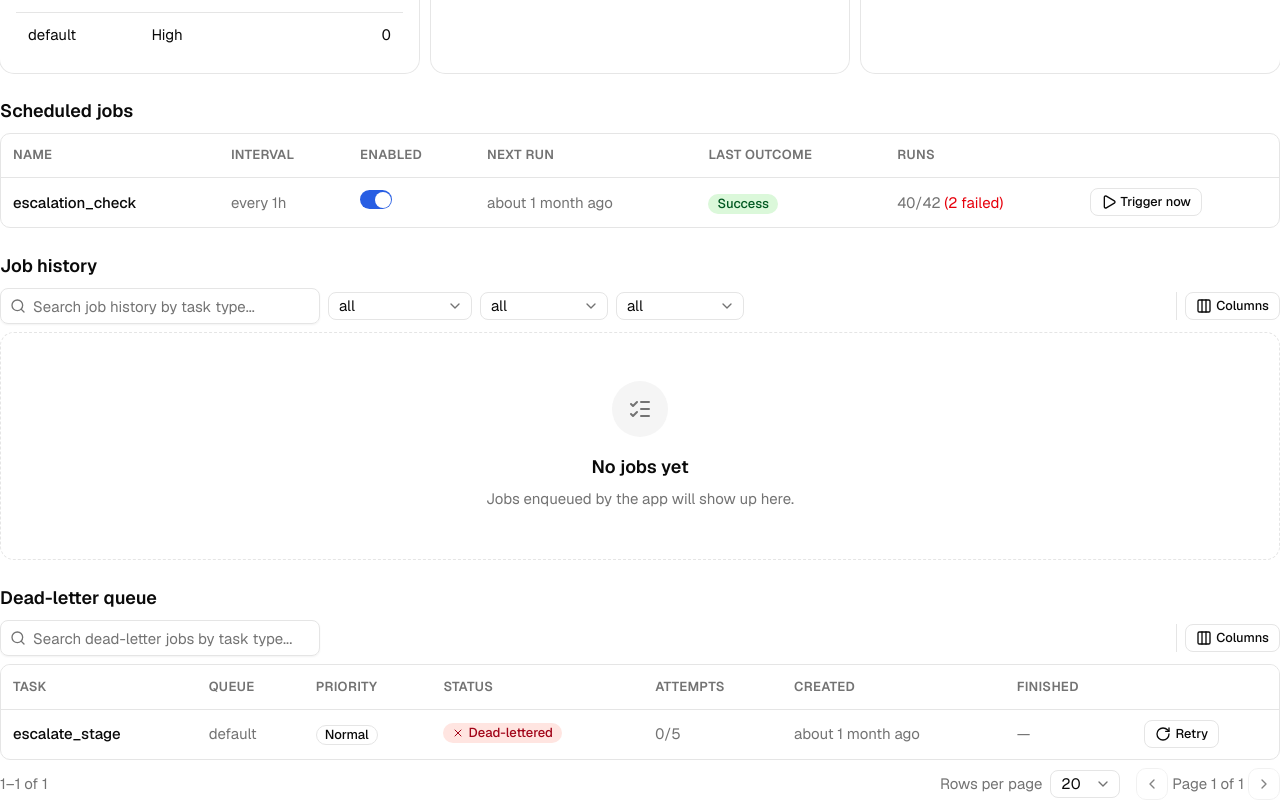
Scenario: AdminJobsPage › asks for confirmation before retrying a dead-lettered job, and does nothing on cancel
The image size is (1280, 800).
(page scrolled)
Expected: the text "escalate_stage" is shown, left=13, top=724, right=121, bottom=743
What coordinates should you click on to do the following:
click the button "Retry"
I would click on:
 (1182, 734)
Its box is left=1144, top=720, right=1219, bottom=748.
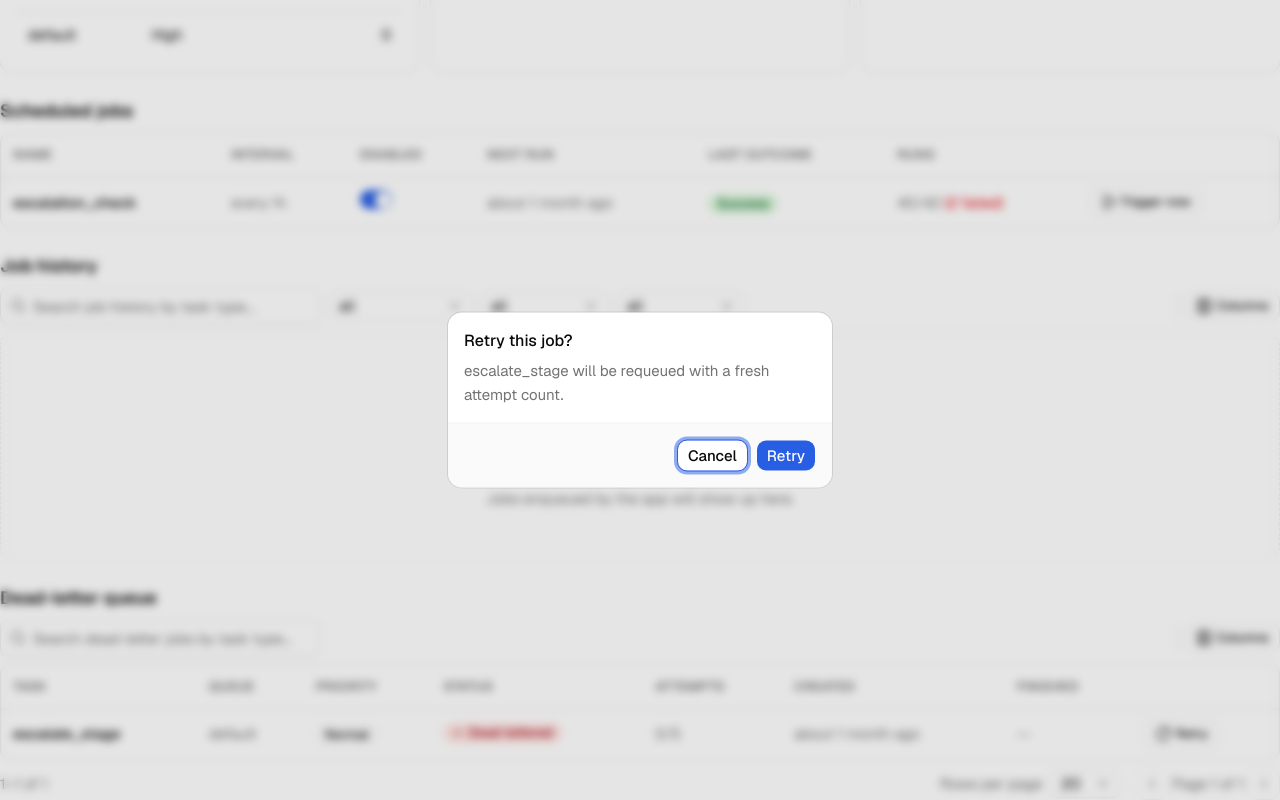
Expected: the heading "Retry this job?" is shown, left=464, top=328, right=573, bottom=352
What coordinates should you click on to do the following:
click the button "Cancel"
I would click on:
 (712, 456)
Its box is left=677, top=440, right=748, bottom=472.
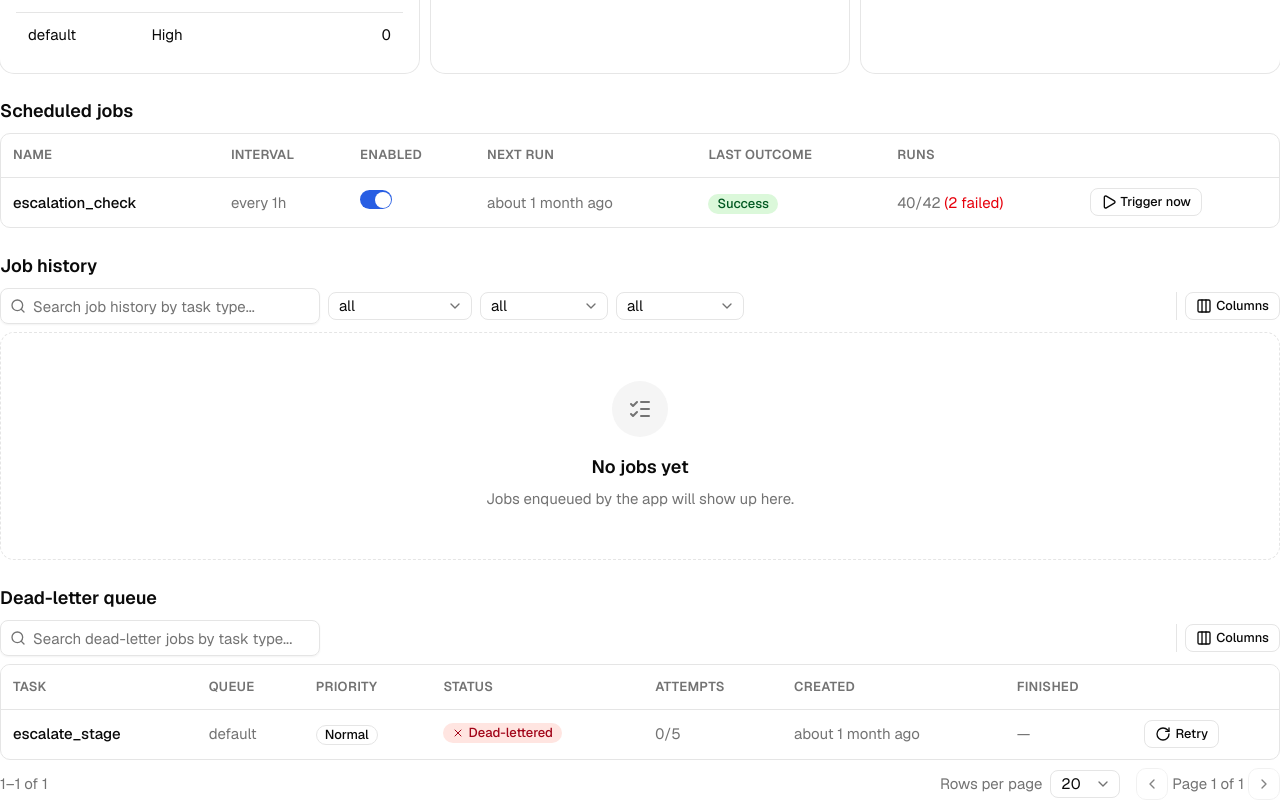
Expected: the heading "Retry this job?" is gone
